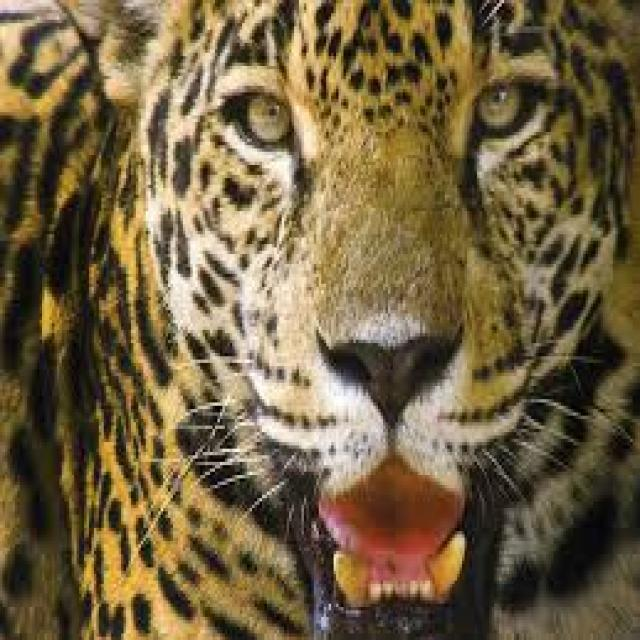Jaguar: (2, 0, 632, 630)
